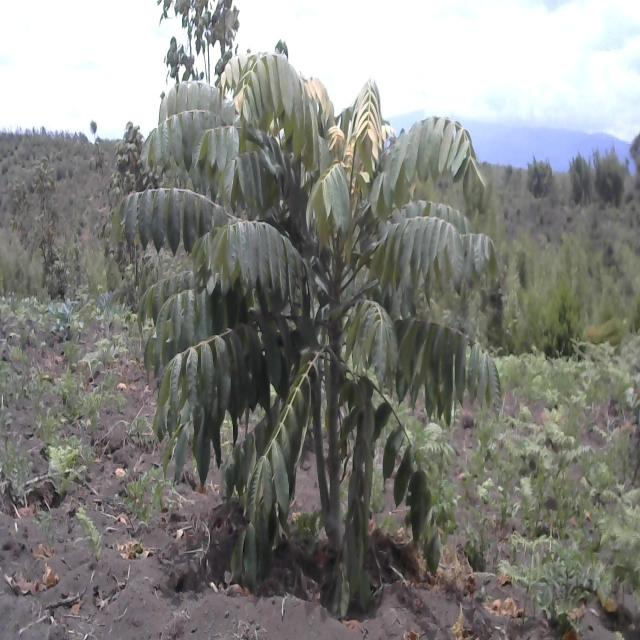Polyscias Kikuyensis: (117, 45, 508, 615)
